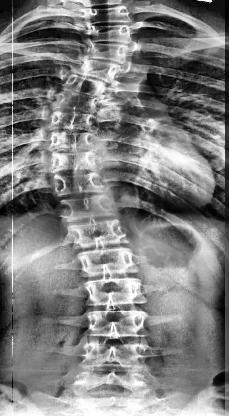Vertebrae: (82, 334, 148, 374), (72, 247, 138, 276), (84, 309, 148, 337), (83, 279, 147, 307), (71, 219, 129, 249), (58, 194, 118, 222), (51, 173, 111, 199), (47, 150, 101, 172), (51, 108, 99, 130), (48, 129, 96, 149), (49, 92, 101, 110), (67, 75, 109, 97), (88, 20, 134, 40), (82, 58, 120, 82), (92, 40, 130, 64), (84, 5, 134, 23)
